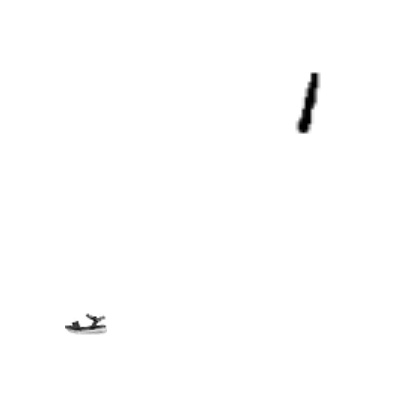1: (266, 61, 350, 145)
Sandal: (65, 303, 107, 345)
